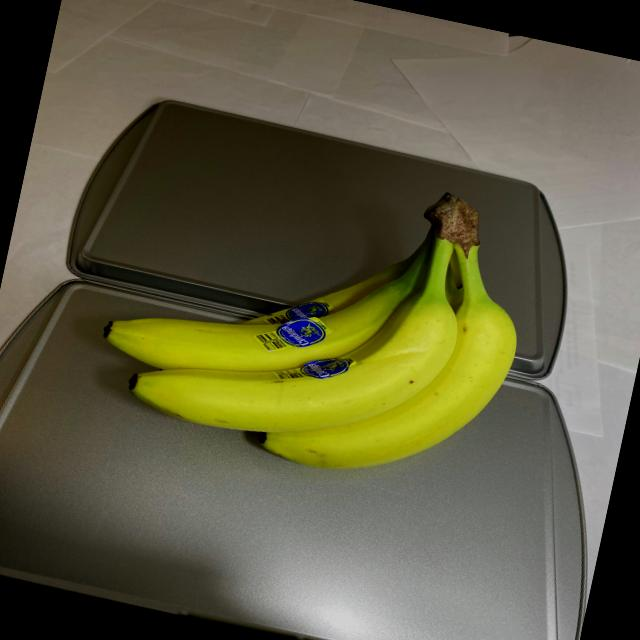banana: (70, 122, 550, 513)
